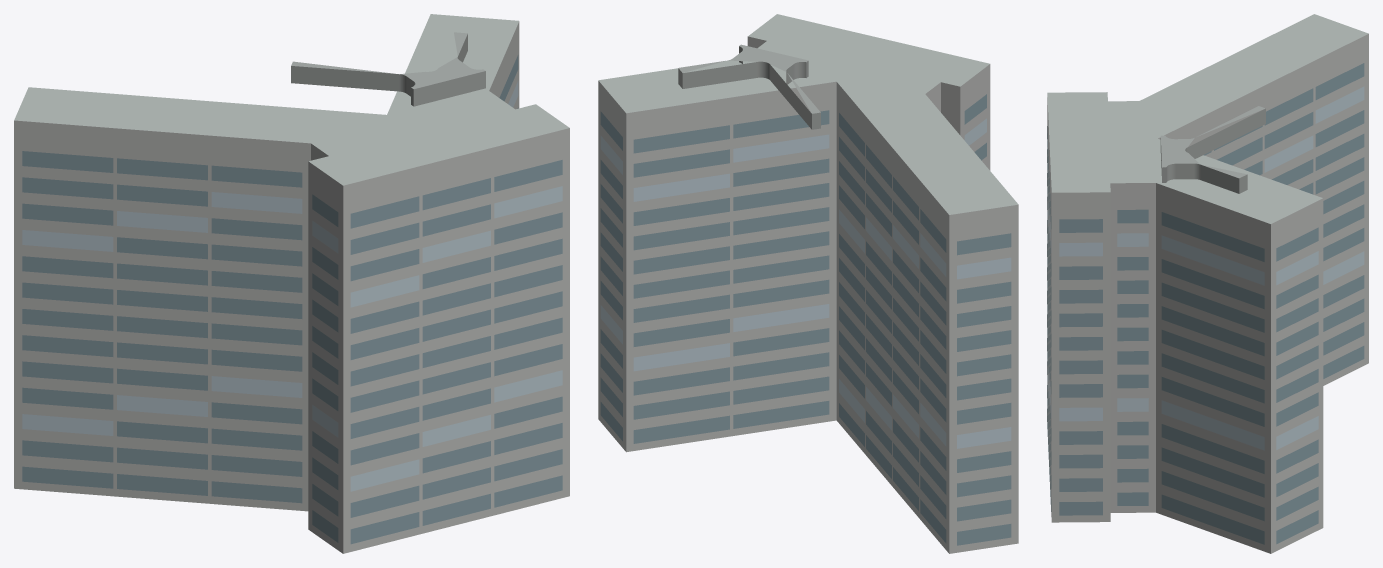
The model's file is fallback-raemian-oksu-riverzen-105.glb.
The picture shows the model from 3 angles, left to right: view 1: azimuth 30°, elevation 25°; view 2: azimuth 150°, elevation 25°; view 3: azimuth 270°, elevation 25°; orthographic projection. The views are drawn at different scales.
Visible parts, largest first — view 1: fallback-raemian-oksu-riverzen-105; view 2: fallback-raemian-oksu-riverzen-105; view 3: fallback-raemian-oksu-riverzen-105.
Part boxes in pixels (box(x1,y1,x2,y2)): fallback-raemian-oksu-riverzen-105: box(14, 14, 569, 553); fallback-raemian-oksu-riverzen-105: box(598, 14, 1018, 553); fallback-raemian-oksu-riverzen-105: box(1047, 14, 1368, 553).
Size of the model in its own units: 53.54 by 41 by 34.65.
